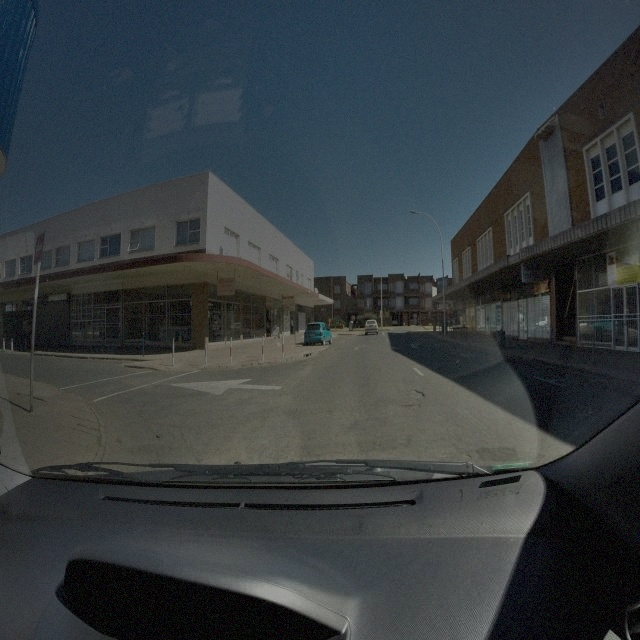pothole: (406, 388, 425, 400), (401, 403, 420, 412)
